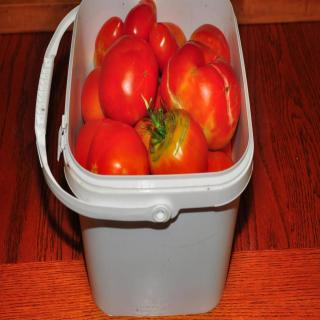Tomato: (74, 0, 241, 176), (168, 36, 234, 149), (140, 99, 211, 179), (146, 98, 210, 174)
